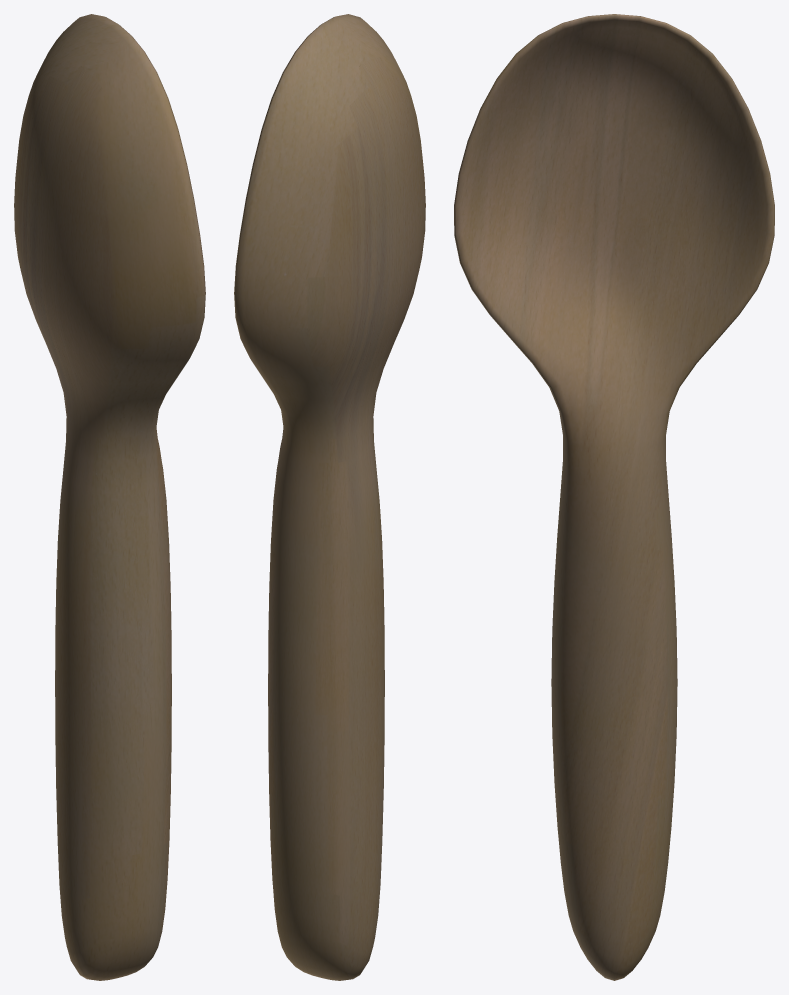
The model's file is Spoon_Wood.fbx.
3 renders of one model, left to right at view 1: azimuth 30°, elevation 25°; view 2: azimuth 150°, elevation 25°; view 3: azimuth 270°, elevation 25°, orthographic.
Parts seen in each view (by area): view 1: Fork; view 2: Fork; view 3: Fork.
Boxes of the visible parts, x1,y1,x2,y2 form: Fork: (14, 14, 205, 980); Fork: (234, 14, 425, 980); Fork: (454, 14, 774, 980).
Size of the model in its own units: 1.48 by 11.39 by 3.45.
1 material, 1 textured.
